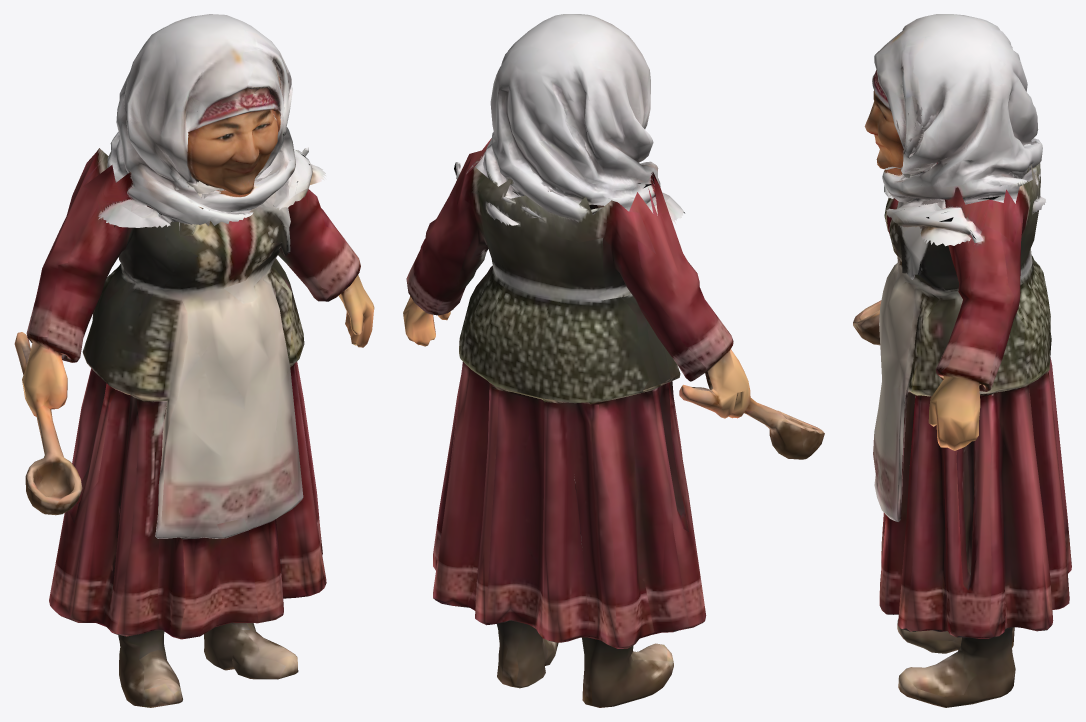
Rendered from cook.gen.glb.
3 views of the same model, side by side, from view 1: azimuth 30°, elevation 25°; view 2: azimuth 150°, elevation 25°; view 3: azimuth 270°, elevation 25° (orthographic).
Visible parts, largest first — view 1: cook.raw; view 2: cook.raw; view 3: cook.raw.
Part boxes in pixels (bbox=[...]): cook.raw: bbox=[14, 14, 374, 707]; cook.raw: bbox=[403, 14, 824, 707]; cook.raw: bbox=[853, 14, 1071, 707].
Bounding box in the file's own units: 1.06 × 1.75 × 0.5323.
Materials: 1 (1 with a texture image).
